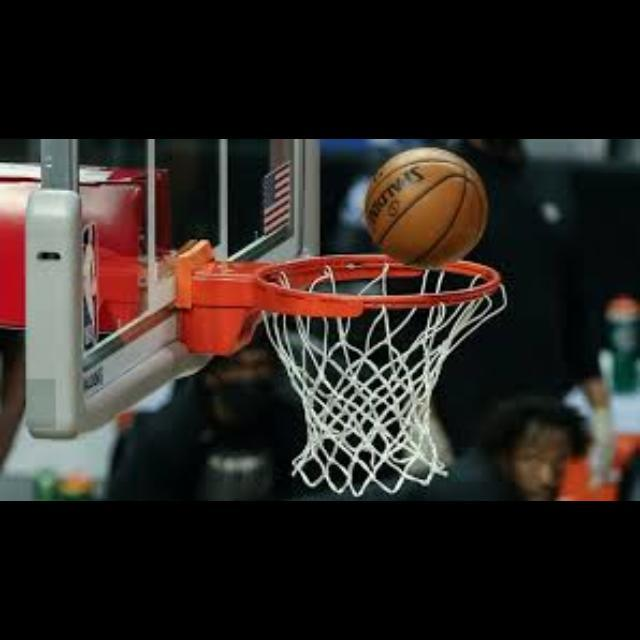basketball: (367, 148, 488, 270)
rim: (262, 254, 500, 496)
